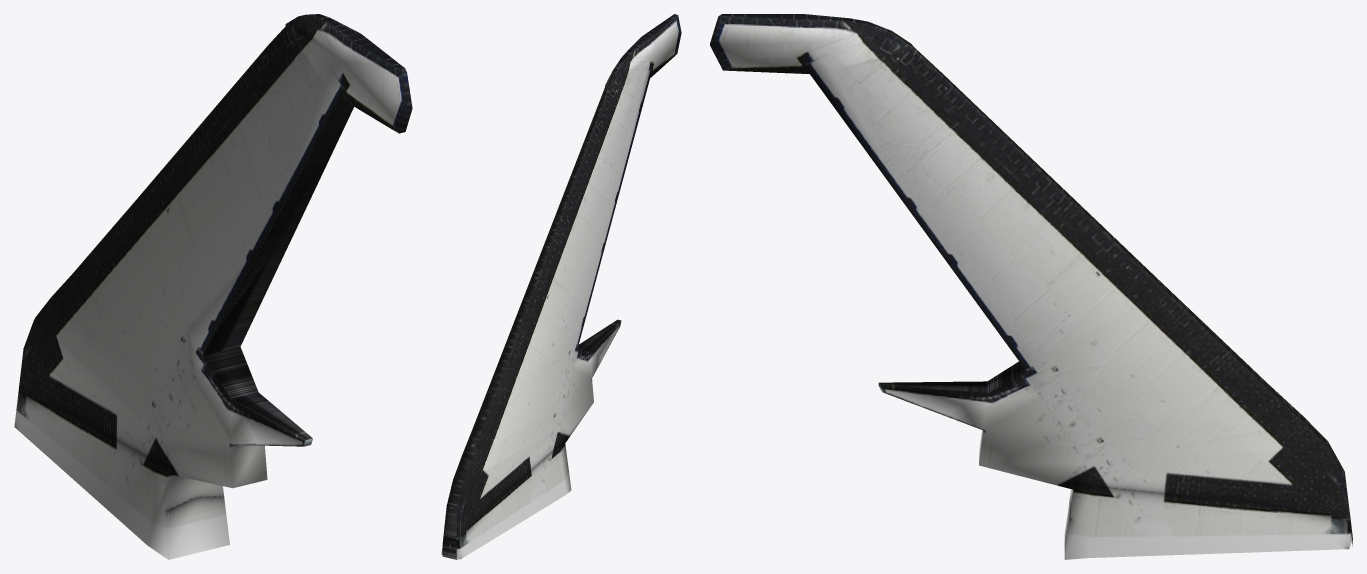
The model's file is tailFin.fbx.
3 views of the same model, side by side, from view 1: azimuth 30°, elevation 25°; view 2: azimuth 150°, elevation 25°; view 3: azimuth 270°, elevation 25° (orthographic). The views are drawn at different scales.
Visible parts, largest first — view 1: tailfin; view 2: tailfin; view 3: tailfin.
Boxes of the visible parts, left/top/right/bottom form: tailfin: left=14, top=14, right=412, bottom=559; tailfin: left=441, top=14, right=681, bottom=559; tailfin: left=710, top=14, right=1352, bottom=559.
Size of the model in its own units: 4.08 by 33.12 by 36.24.
